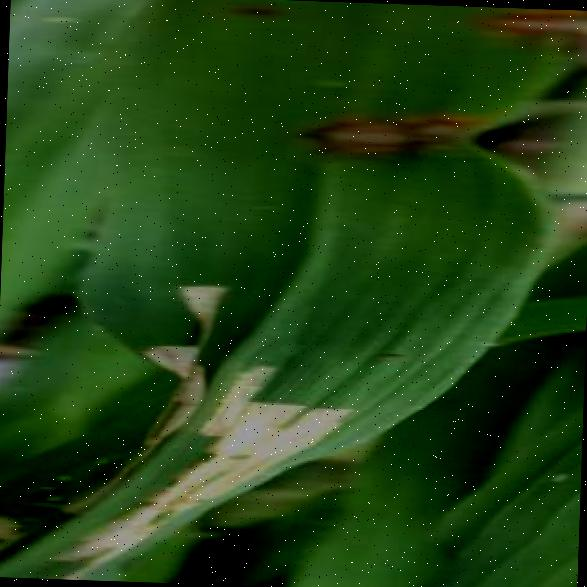Leaf_smut: (298, 90, 520, 170)
